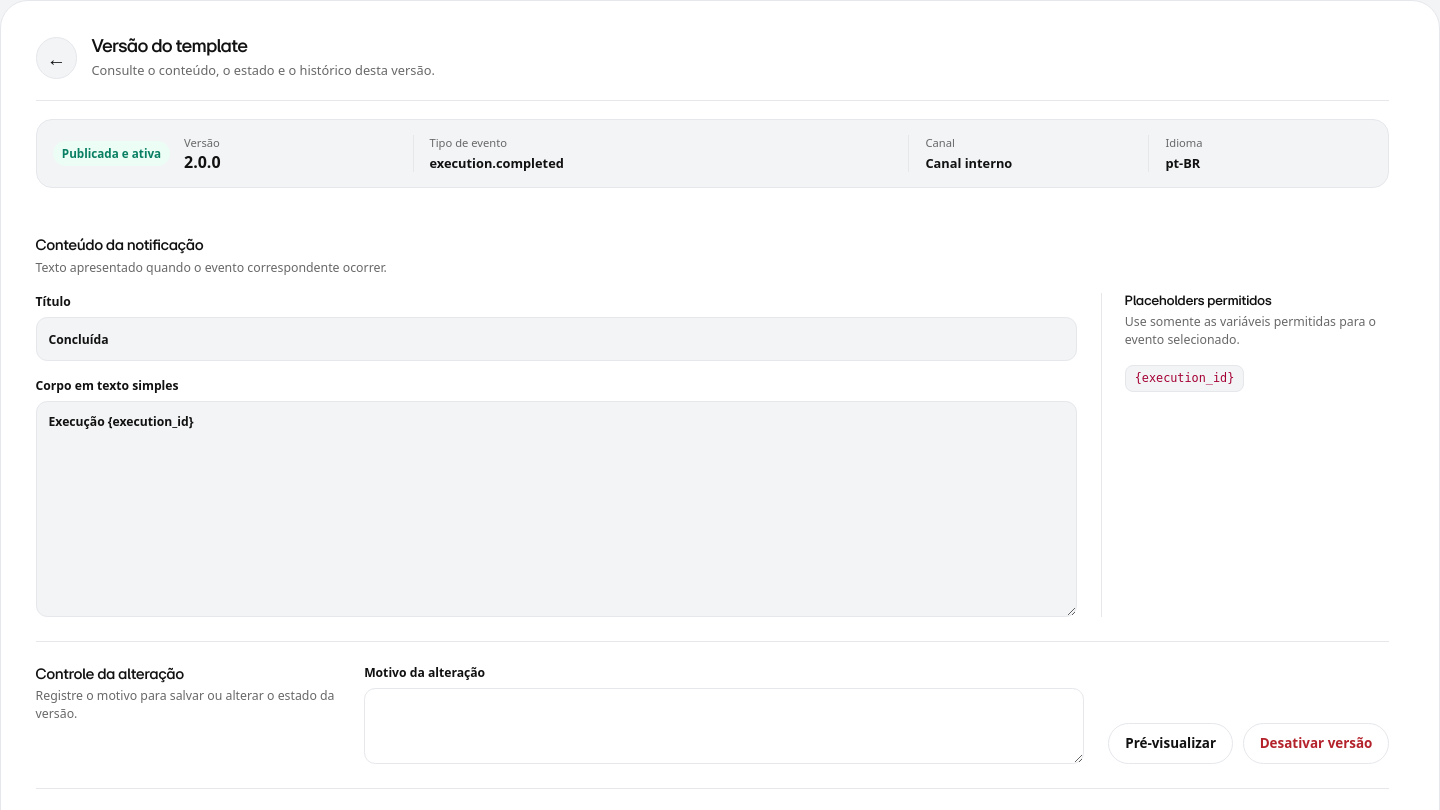
NotificationTemplateEditorComponent › confirms deactivation in the shared dialog before changing the active version
Click the button "Desativar versão" at coordinates (1316, 744), box [1243,723,1390,764]
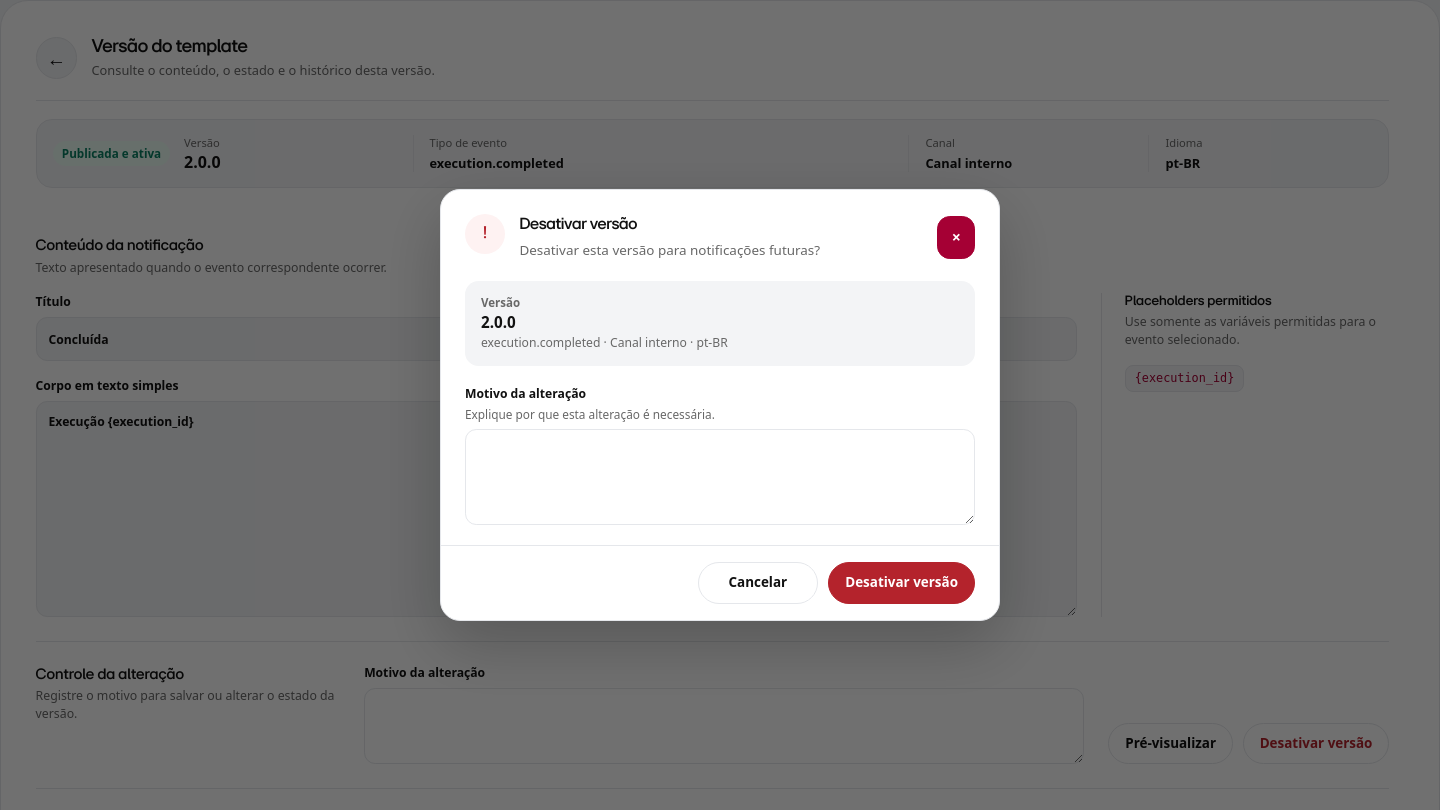
Check: the dialog with class "admin-lifecycle-dialog" is shown, box [440,189,1000,621]
Check: the dialog with class "admin-lifecycle-dialog" shows "2.0.0", box [481,312,516,332]
Type "retirada aprovada" into the text box named "transitionReason" at coordinates (720, 477), box [465,429,975,525]
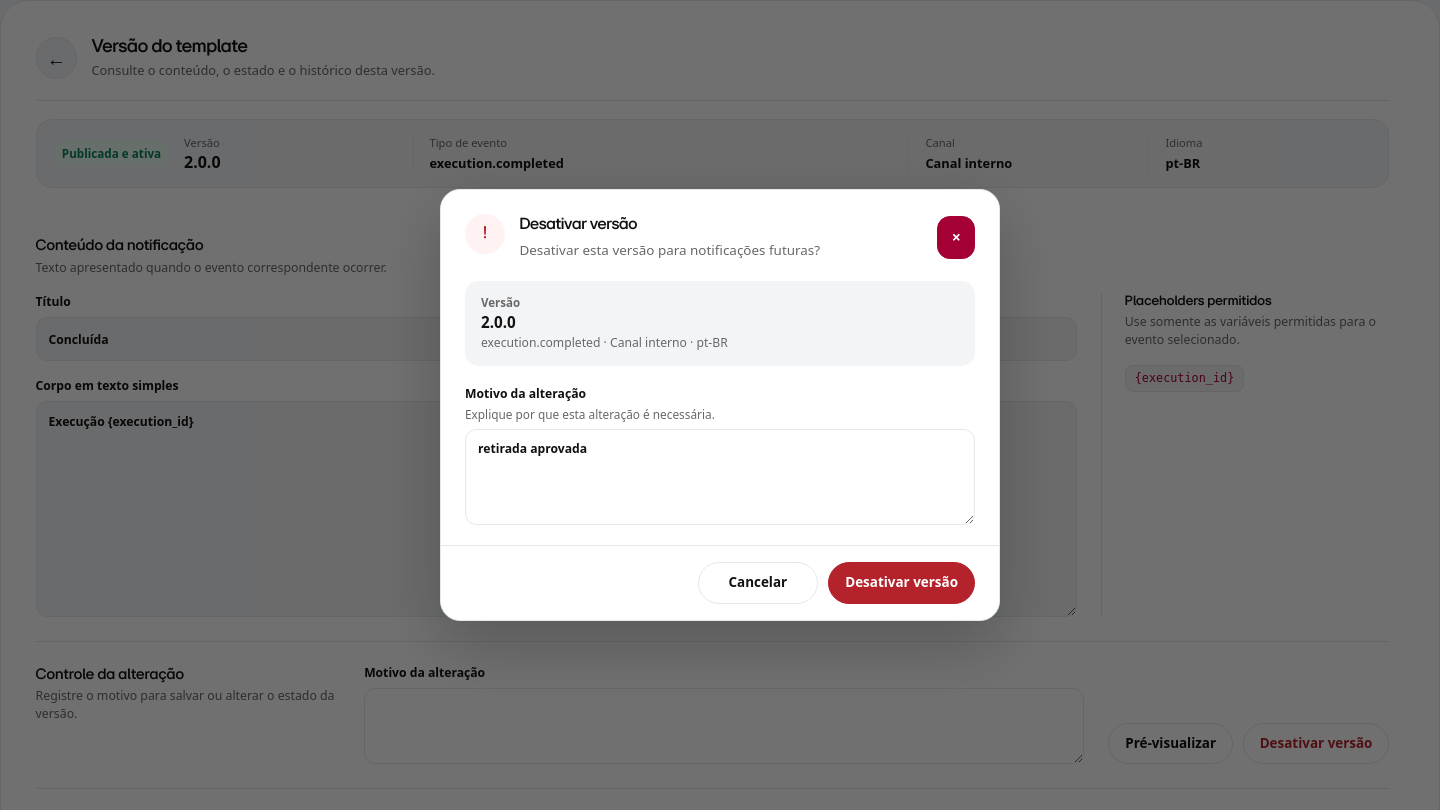
Submit the form, box [465,385,975,596]
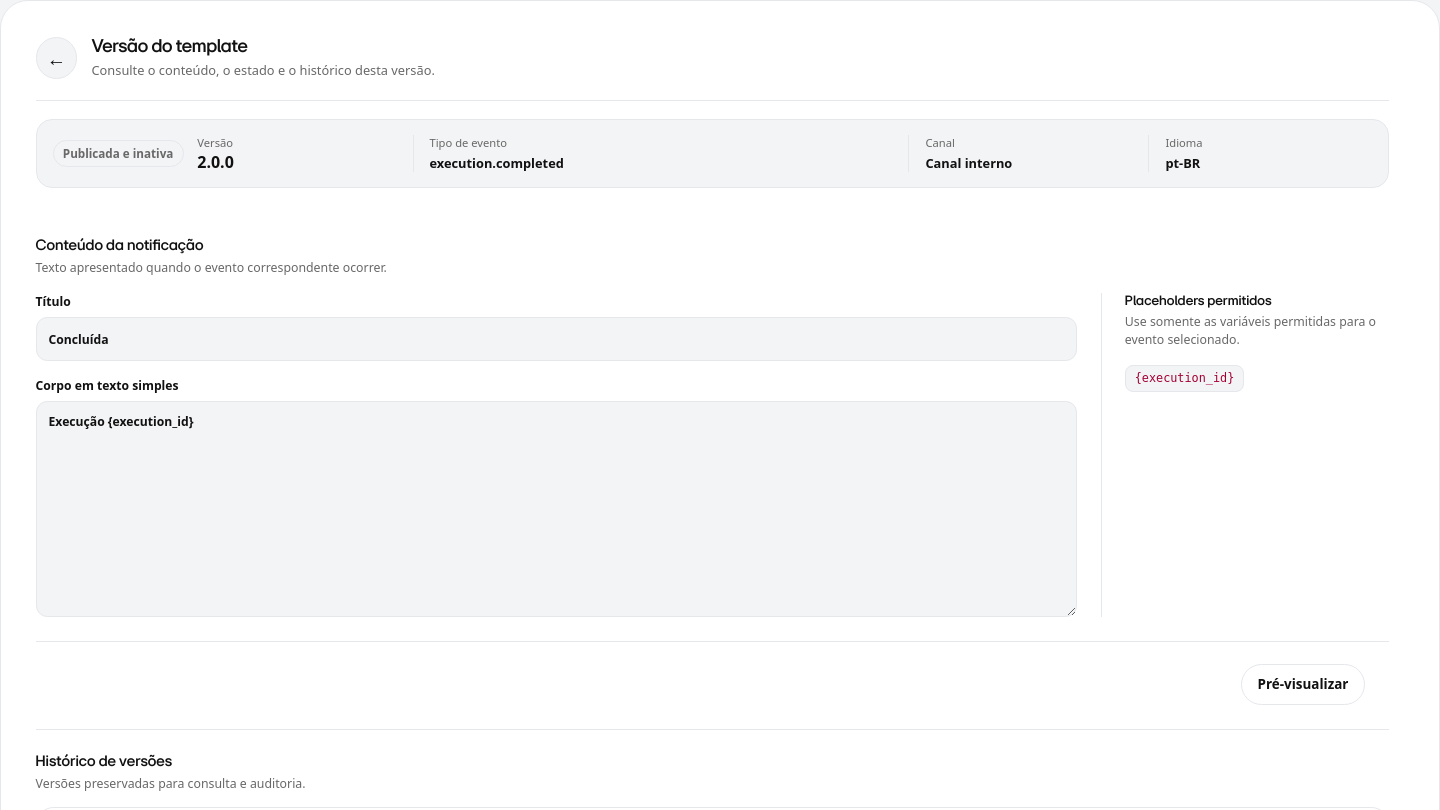
Check: the text "Publicada e inativa" is shown, box [52,140,184,167]
